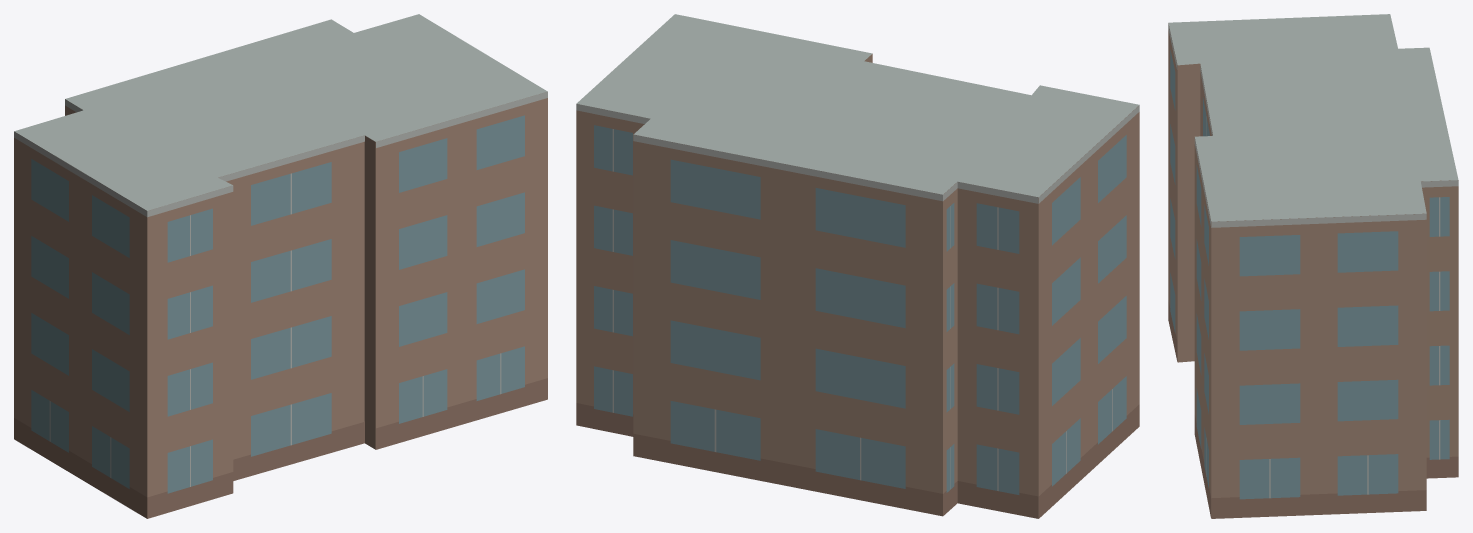
The model's file is survey-upis-32977598.glb.
3 views of the same model, side by side, from view 1: azimuth 30°, elevation 25°; view 2: azimuth 150°, elevation 25°; view 3: azimuth 270°, elevation 25° (orthographic). The views are drawn at different scales.
Visible parts, largest first — view 1: survey-upis-32977598.tmp; view 2: survey-upis-32977598.tmp; view 3: survey-upis-32977598.tmp.
Part boxes in pixels (x1=…): survey-upis-32977598.tmp: x1=14, y1=14, x2=547, y2=518; survey-upis-32977598.tmp: x1=576, y1=14, x2=1139, y2=518; survey-upis-32977598.tmp: x1=1168, y1=14, x2=1458, y2=518.
Bounding box in the file's own units: 17.69 × 11.8 × 10.45.
